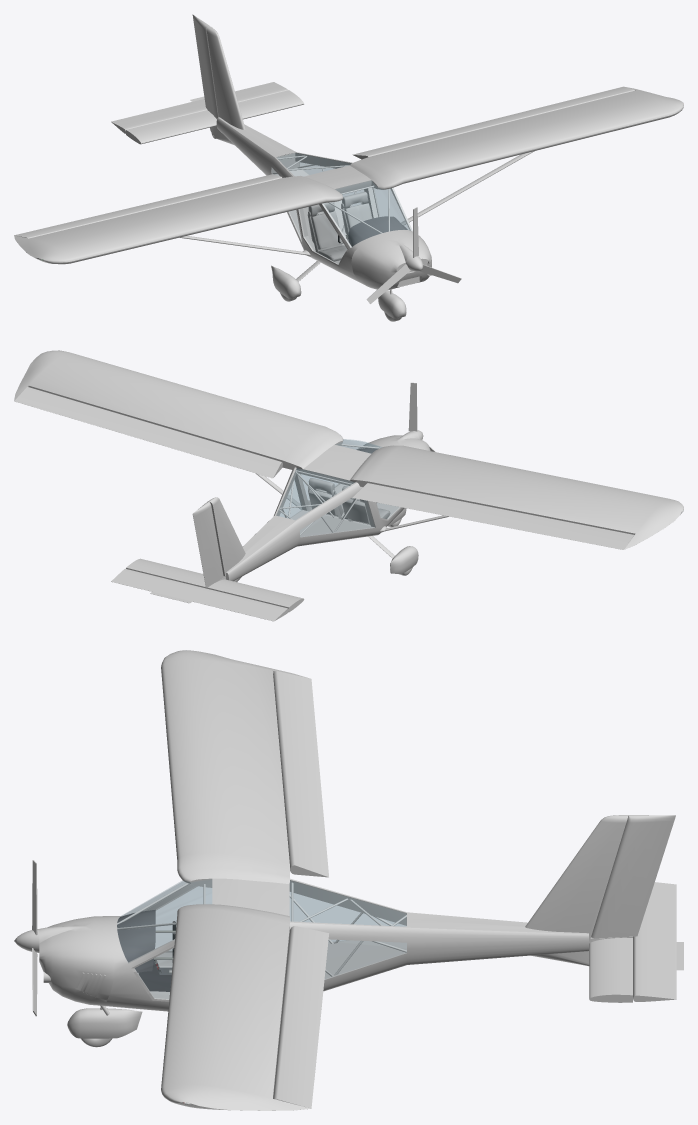
File: airframe0.dae
3 renders of one model, top to bottom at view 1: azimuth 30°, elevation 25°; view 2: azimuth 150°, elevation 25°; view 3: azimuth 270°, elevation 25°, orthographic. The views are drawn at different scales.
Parts seen in each view (by area): view 1: airframe; view 2: airframe; view 3: airframe.
Part boxes in pixels (bbox=[...]): airframe: bbox=[14, 14, 683, 321]; airframe: bbox=[14, 350, 683, 621]; airframe: bbox=[14, 650, 683, 1110].
Bounding box in the file's own units: 10.09 × 6.28 × 2.38.
